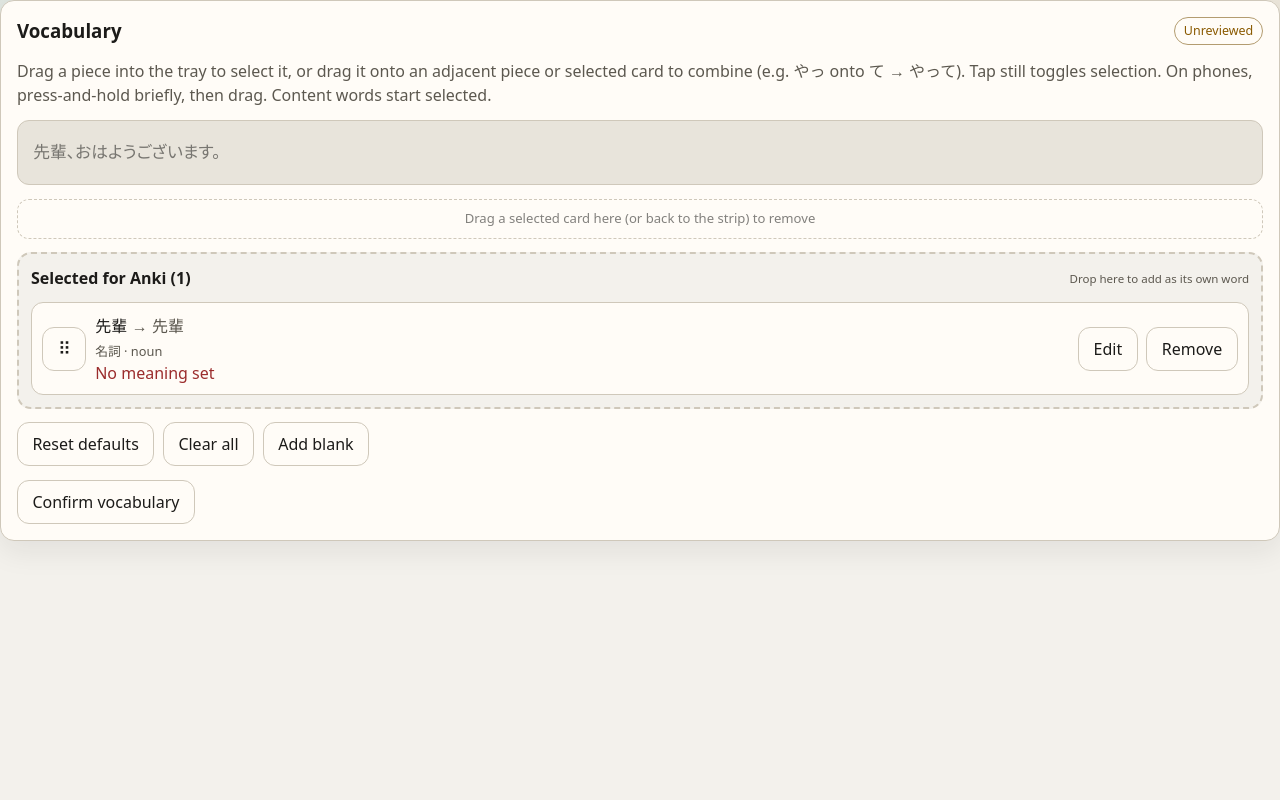
Test: VocabularyPicker "Suggest (AI)" › shows inline "Confirmed" feedback next to the button after confirming
expect the text "confirmed ✓" is not shown: met
Click the button "Confirm vocabulary".
click(106, 502)  # box [17,480,195,524]
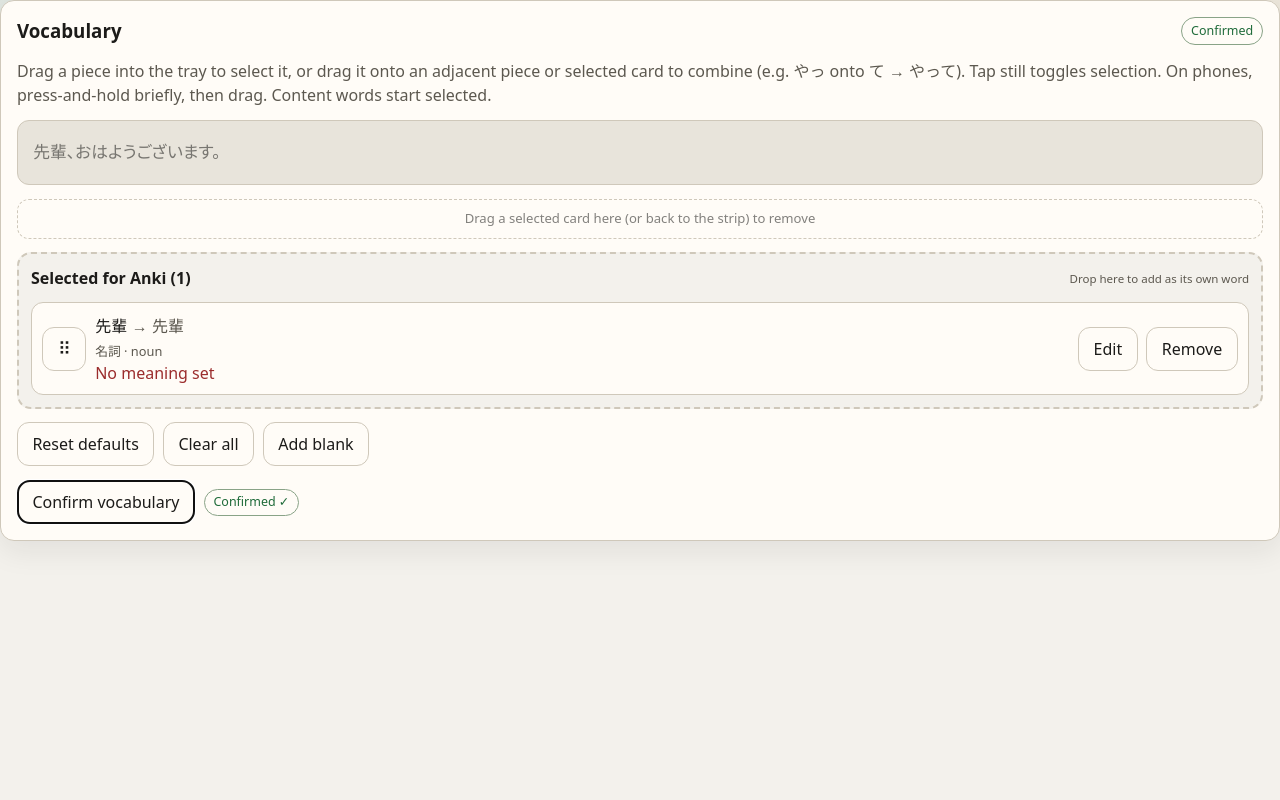
expect the text "Confirmed ✓" is shown: met, box [204,488,299,516]
